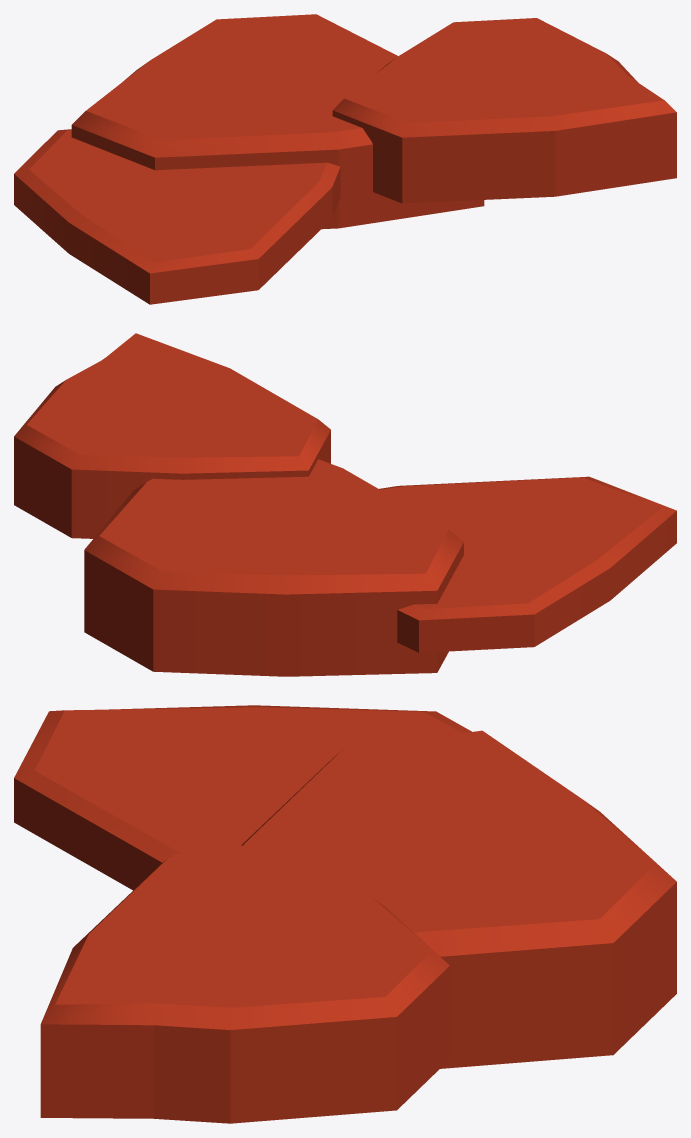
Rendered from rock.fbx.
3 views of the same model, one above another, from view 1: azimuth 30°, elevation 25°; view 2: azimuth 150°, elevation 25°; view 3: azimuth 270°, elevation 25° (orthographic). The views are drawn at different scales.
Parts seen in each view (by area): view 1: rock; view 2: rock; view 3: rock.
Boxes of the visible parts, left/top/right/bottom form: rock: left=14, top=14, right=676, bottom=304; rock: left=14, top=333, right=676, bottom=676; rock: left=14, top=705, right=676, bottom=1123.
Bounding box in the file's own units: 2612 × 494 × 1950.
